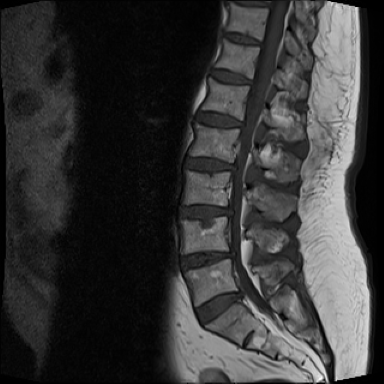Degenerative Disc Disease (DDD): (218, 28, 267, 50)
Lumbar Disc Bulge (LDB): (188, 280, 254, 331), (178, 242, 241, 278), (177, 199, 240, 224), (181, 152, 241, 176), (192, 109, 248, 132)
Spinal Stenosis (SS): (228, 282, 250, 310), (219, 195, 240, 223), (224, 151, 244, 180), (221, 239, 241, 267), (230, 111, 250, 135), (242, 73, 260, 90)
Thoracic Disc Bulge (TDB): (207, 65, 257, 90)
